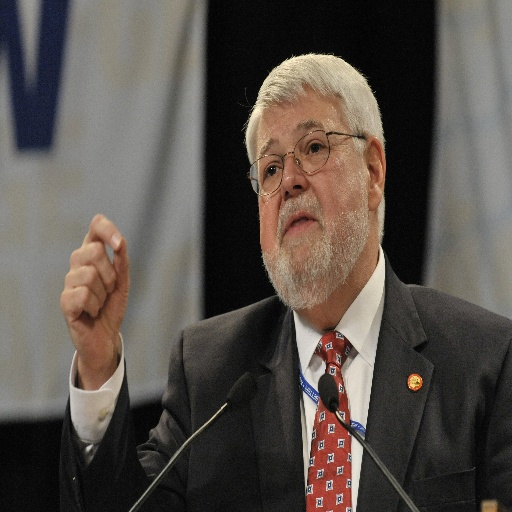hand: (49, 198, 130, 389)
